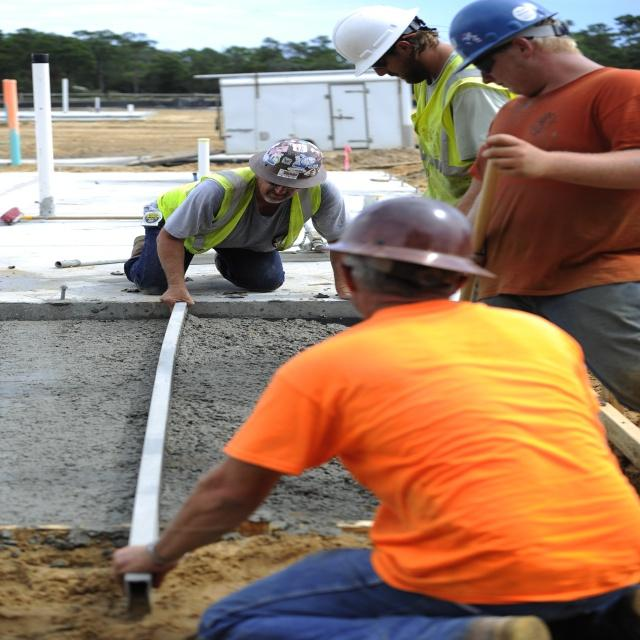helmet: (330, 263, 479, 404), (448, 5, 572, 124), (331, 9, 437, 116), (251, 189, 326, 271)
vest: (142, 235, 323, 346), (412, 83, 517, 255)
